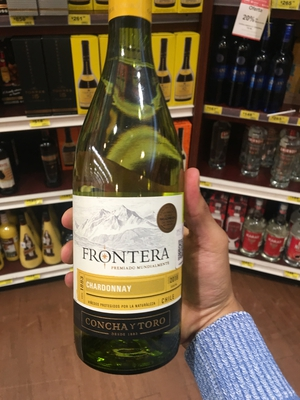frontera chardonnay: (67, 22, 203, 347)
